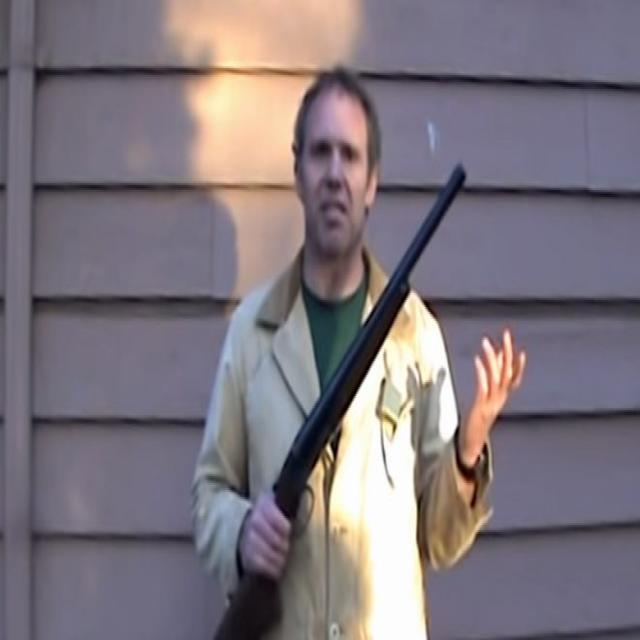ShotGun: (217, 164, 467, 640)
